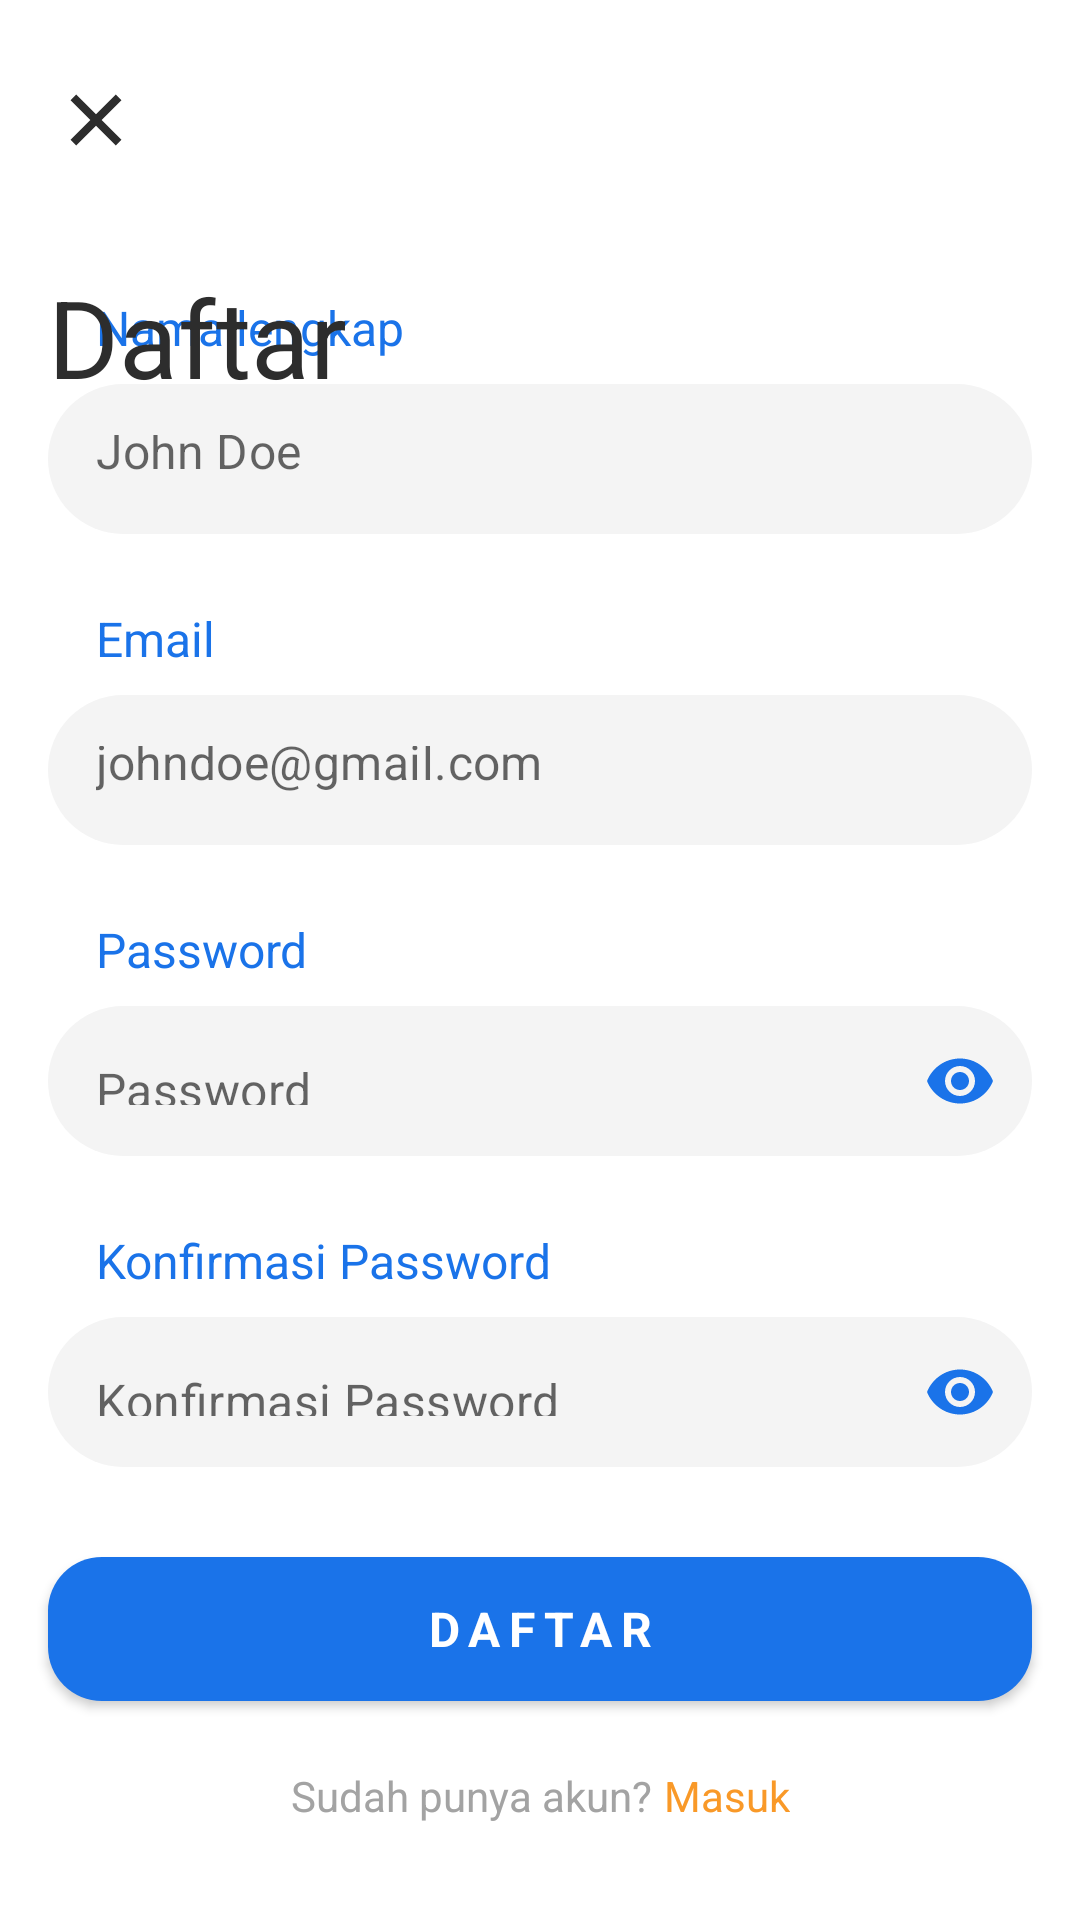

Locate icon controls on the screen. Image size 1080x1920, boxes as (x1, y1, x2, y2).
tombol keluar: (70, 94, 122, 146)
